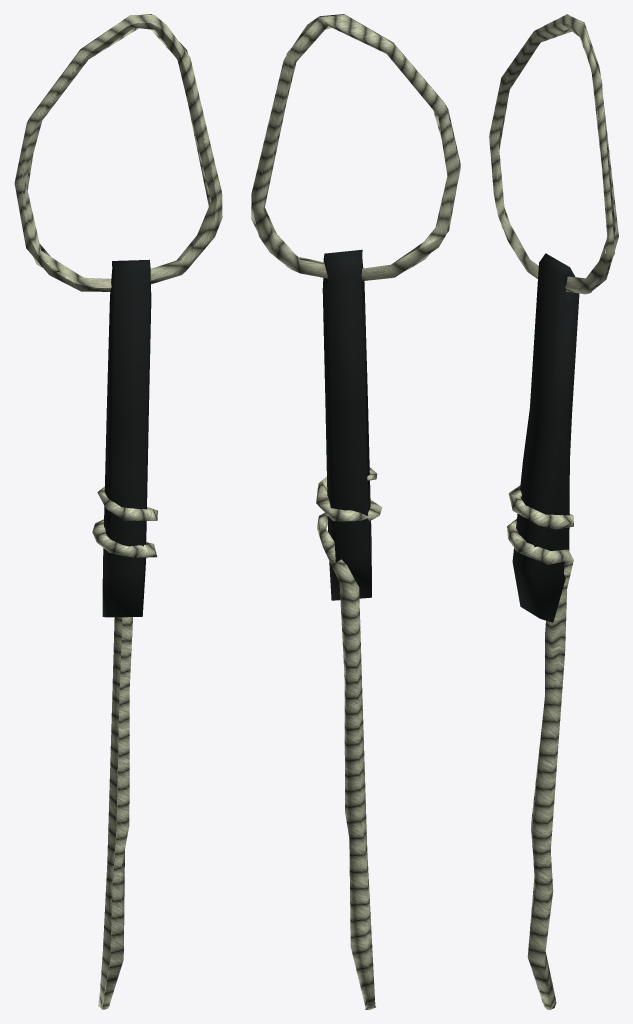
File: plet.glb
3 renders of one model, left to right at view 1: azimuth 30°, elevation 25°; view 2: azimuth 210°, elevation 25°; view 3: azimuth 330°, elevation 25°, orthographic.
Parts seen in each view (by area): view 1: Cylinder.001; view 2: Cylinder.001; view 3: Cylinder.001.
Boxes of the visible parts, box(x1,y1,x2,y2) form: Cylinder.001: box(14, 14, 222, 1009); Cylinder.001: box(251, 14, 460, 1009); Cylinder.001: box(489, 14, 618, 1009).
Bounding box in the file's own units: 0.1406 × 0.7942 × 0.071.
Materials: 3 (2 with a texture image).
